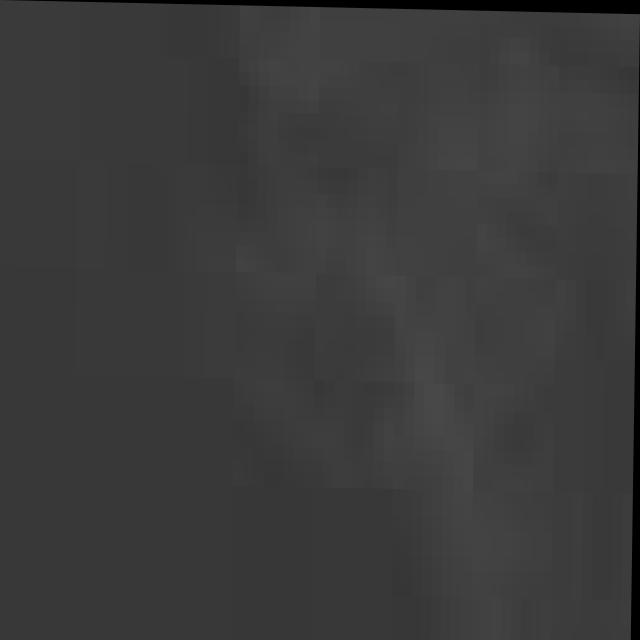fracture: (0, 8, 640, 640)
